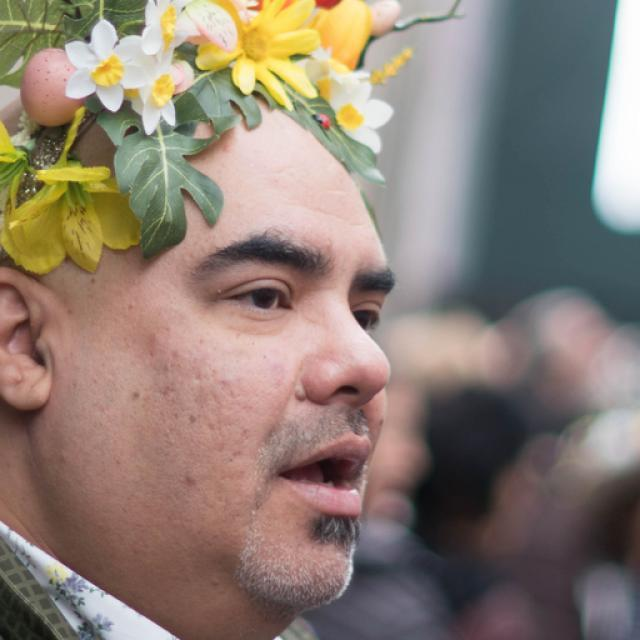surprise: (74, 112, 394, 618)
